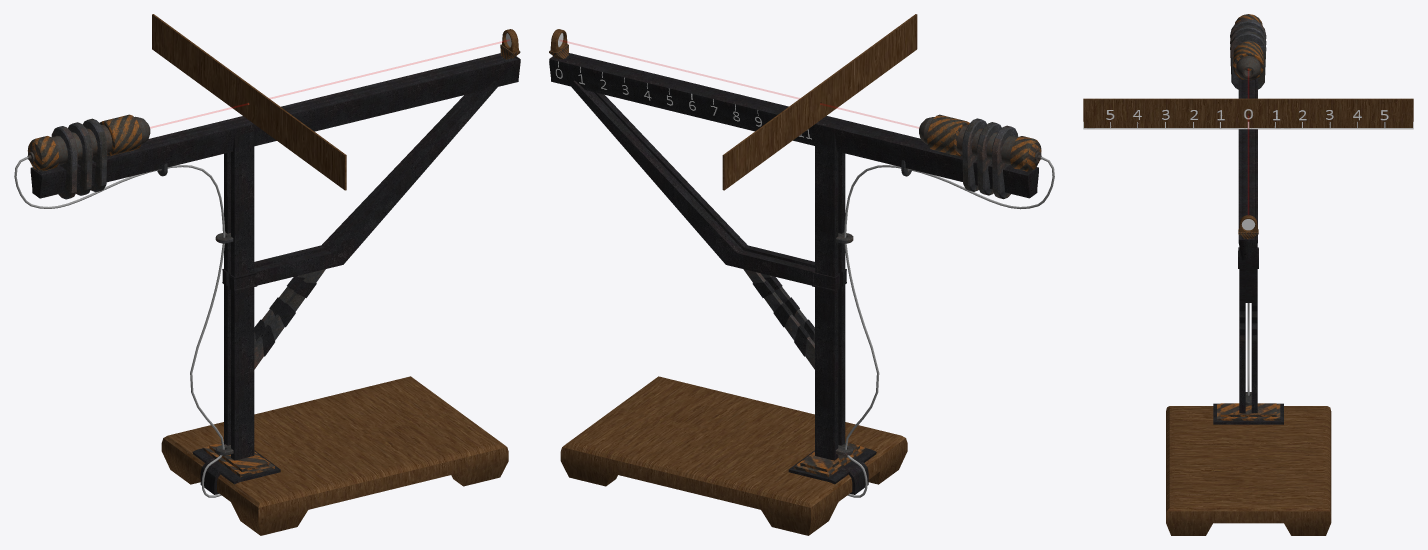
The model's file is Diffraction Stand.FBX.
The picture shows the model from 3 angles, left to right: view 1: azimuth 30°, elevation 25°; view 2: azimuth 150°, elevation 25°; view 3: azimuth 270°, elevation 25°; orthographic projection. The views are drawn at different scales.
Visible parts, largest first — view 1: Object001, Box001, Object005, Object004, Cylinder003, Cylinder006, Line001, Object002, Object003; view 2: Object001, Box001, Object005, Object004, Cylinder003, Cylinder006, Line001, Object002, Object003; view 3: Object001, Object004, Object005, Box001, Cylinder003, Cylinder006, Object003, Object002.
Part boxes in pixels (box(x1,y1,x2,y2)): Object001: box(161, 376, 508, 535); Box001: box(222, 80, 499, 460); Object005: box(30, 53, 520, 198); Object004: box(152, 14, 346, 190); Cylinder003: box(27, 114, 150, 171); Cylinder006: box(51, 118, 107, 199); Line001: box(14, 156, 225, 497); Object002: box(192, 448, 280, 494); Object003: box(203, 442, 274, 477); Object001: box(560, 376, 907, 535); Box001: box(570, 80, 846, 460); Object005: box(549, 53, 1038, 198); Object004: box(722, 14, 917, 190); Cylinder003: box(919, 114, 1041, 171); Cylinder006: box(962, 118, 1018, 199); Line001: box(844, 156, 1054, 497); Object002: box(788, 448, 876, 494); Object003: box(794, 442, 865, 477); Object001: box(1166, 406, 1331, 535); Object004: box(1083, 98, 1413, 129); Object005: box(1238, 77, 1257, 260); Box001: box(1238, 245, 1258, 413); Cylinder003: box(1233, 14, 1263, 80); Cylinder006: box(1230, 19, 1266, 89); Object003: box(1217, 403, 1280, 420); Object002: box(1213, 403, 1283, 424).
Bounding box in the file's own units: 152 × 102 × 120.
Materials: 10 (8 with a texture image).
